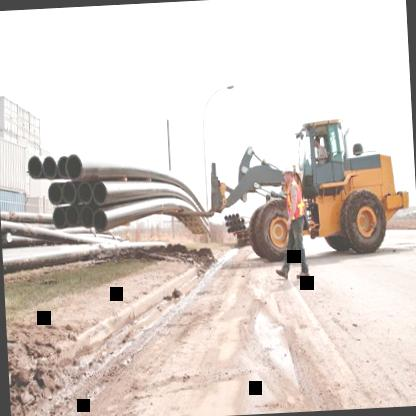helmet: (280, 162, 296, 186)
